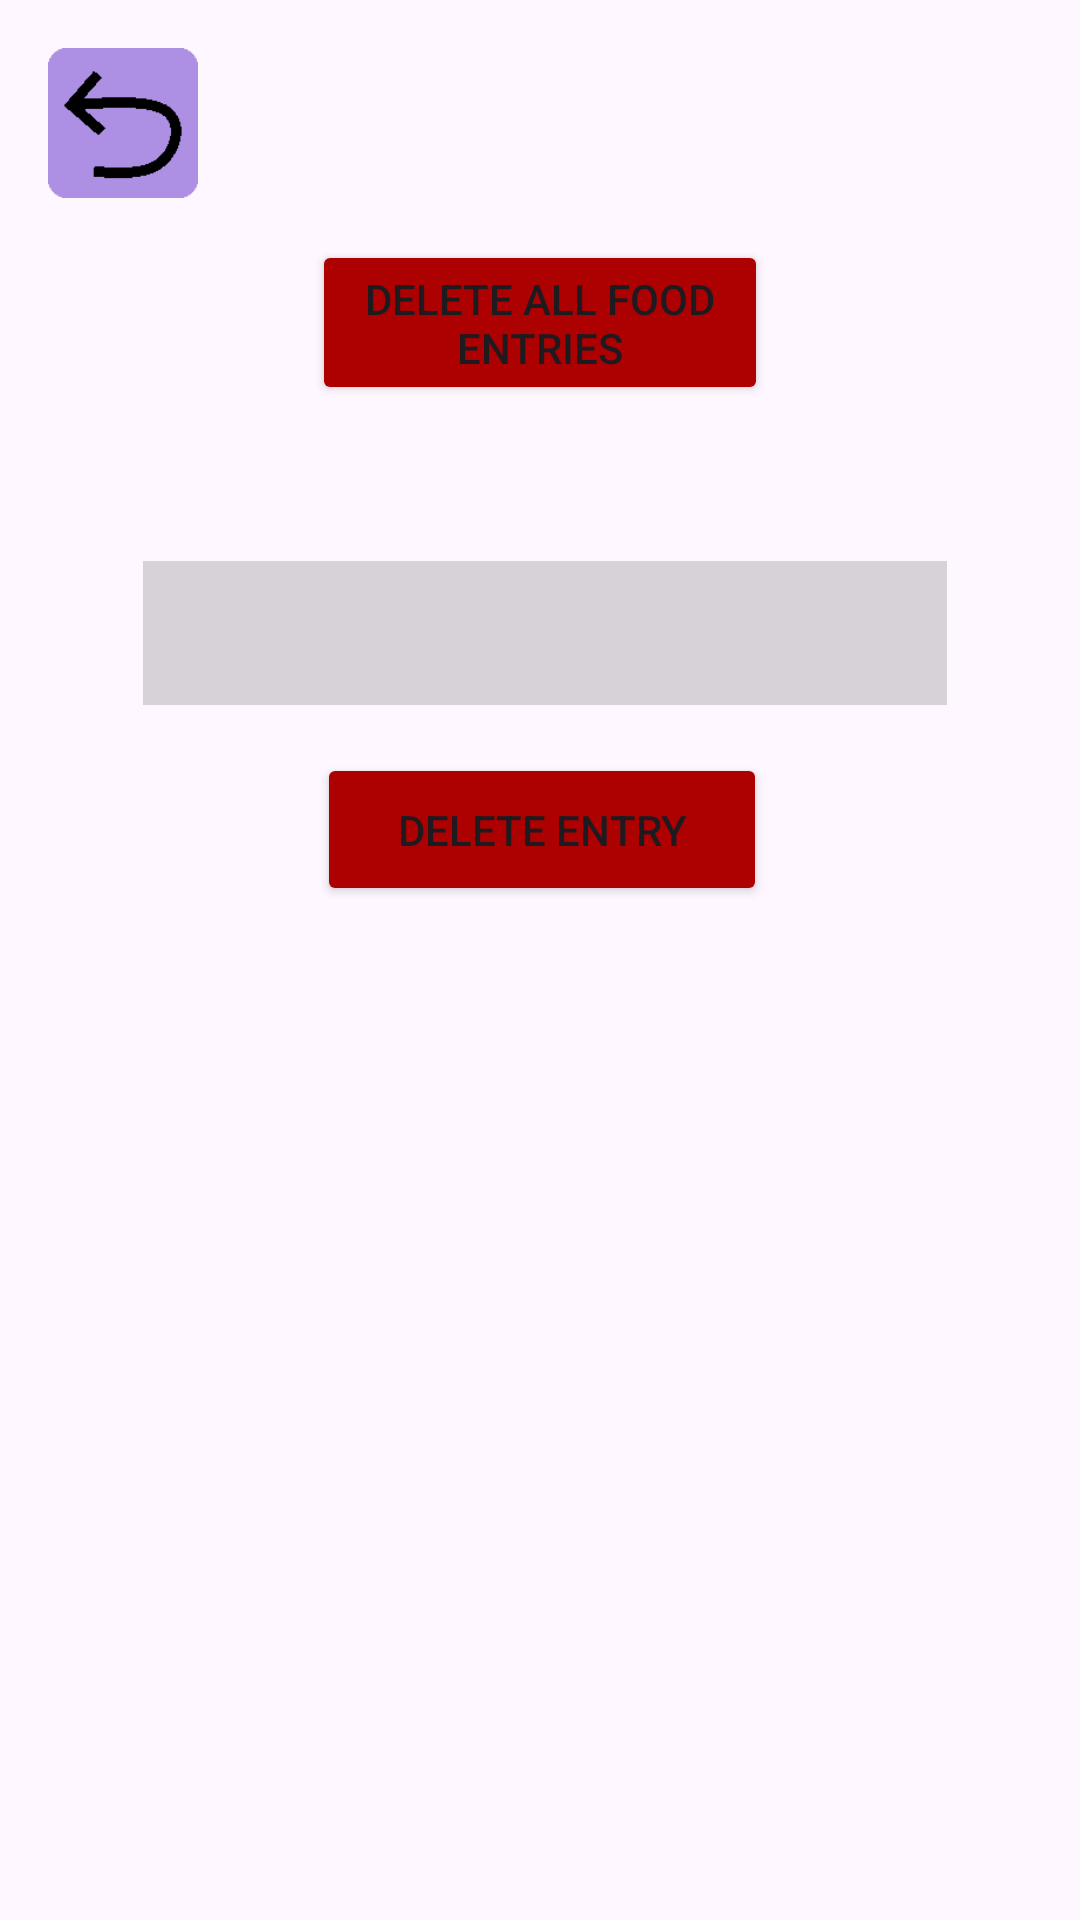

Icon click points for this 1080w x 1920h phone screenshot, format (x=x, y=y):
Return to main screen: (x=123, y=123)
